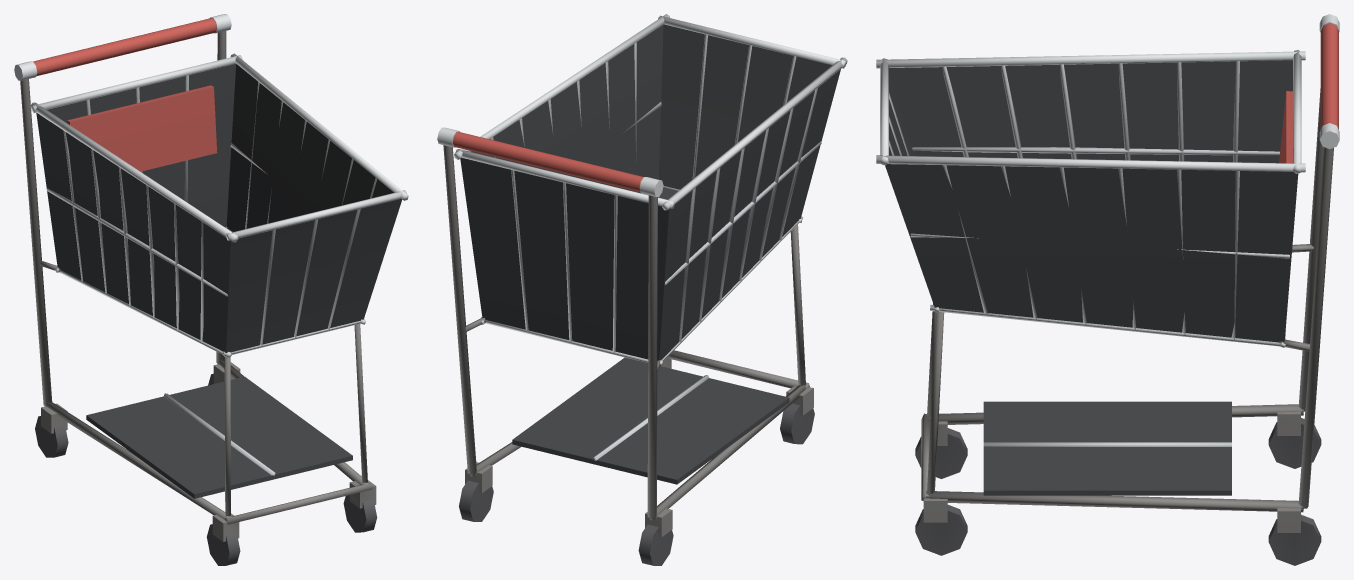
File: cart.glb
The picture shows the model from 3 angles, left to right: view 1: azimuth 30°, elevation 25°; view 2: azimuth 150°, elevation 25°; view 3: azimuth 270°, elevation 25°; orthographic projection. The views are drawn at different scales.
Visible parts, largest first — view 1: street_cart; view 2: street_cart; view 3: street_cart.
Boxes of the visible parts, x1,y1,x2,y2 form: street_cart: [14, 14, 408, 565]; street_cart: [437, 14, 847, 565]; street_cart: [876, 14, 1339, 565].
Bounding box in the file's own units: 0.58 × 1.02 × 0.9707.
